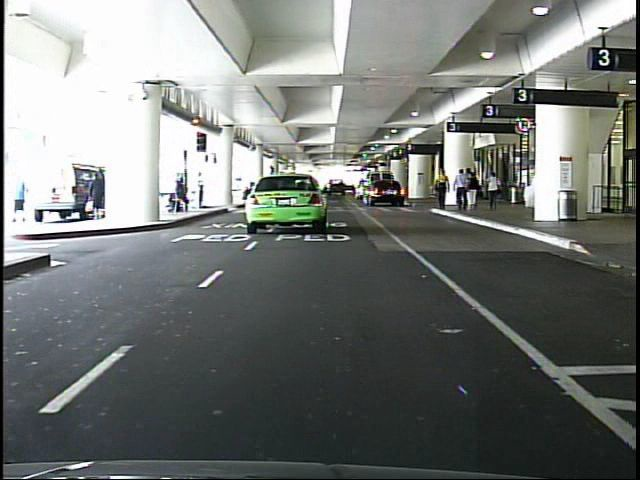person: (481, 169, 504, 218), (429, 166, 451, 215), (89, 170, 110, 220), (452, 167, 472, 216), (467, 171, 482, 214), (196, 170, 210, 213)
